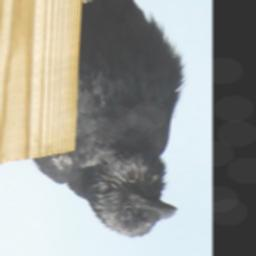Crow: (35, 0, 188, 239)
